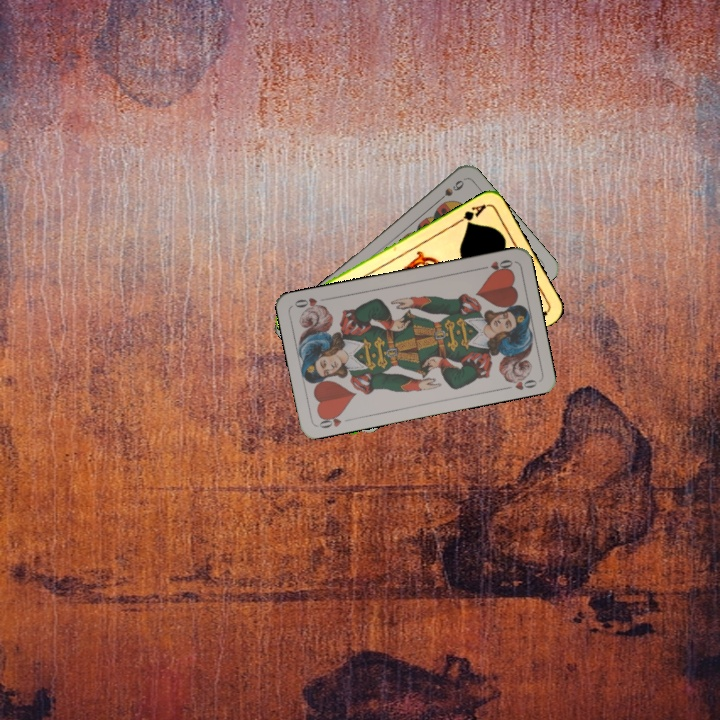GA: (452, 200, 489, 228)
HO: (315, 409, 355, 431), (476, 256, 515, 275)
S9: (432, 176, 467, 206)
